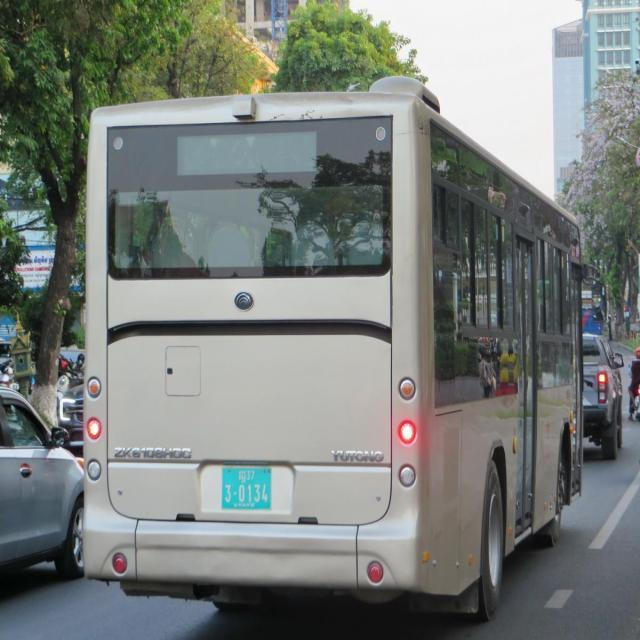State: (239, 470, 247, 484)
